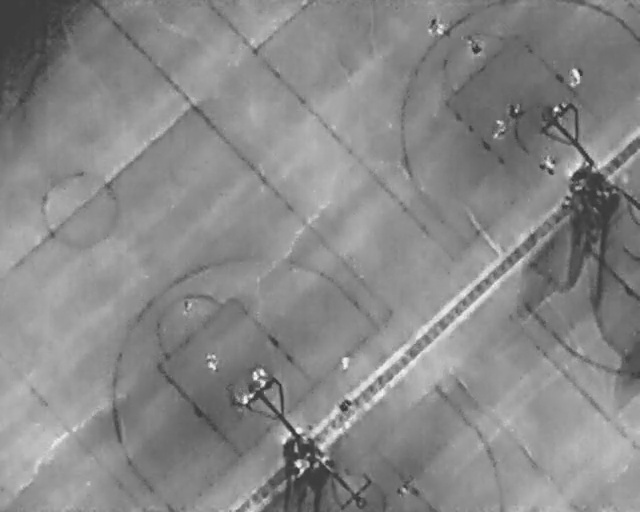Person: (537, 152, 558, 178), (489, 117, 509, 141), (550, 96, 571, 117), (425, 16, 445, 35), (251, 367, 269, 387), (567, 66, 582, 88), (467, 37, 484, 56), (204, 350, 218, 373), (337, 397, 354, 415), (396, 480, 412, 497), (508, 100, 523, 118), (182, 299, 194, 316), (339, 354, 350, 372)
